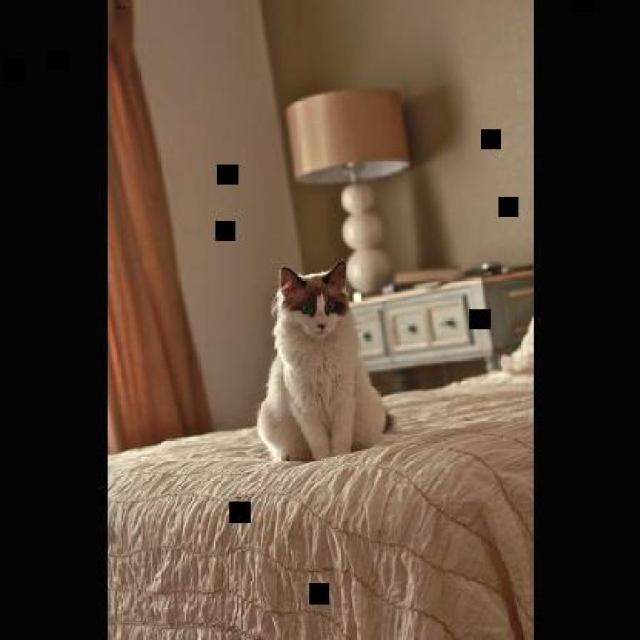unauthorized: (255, 258, 394, 462)
